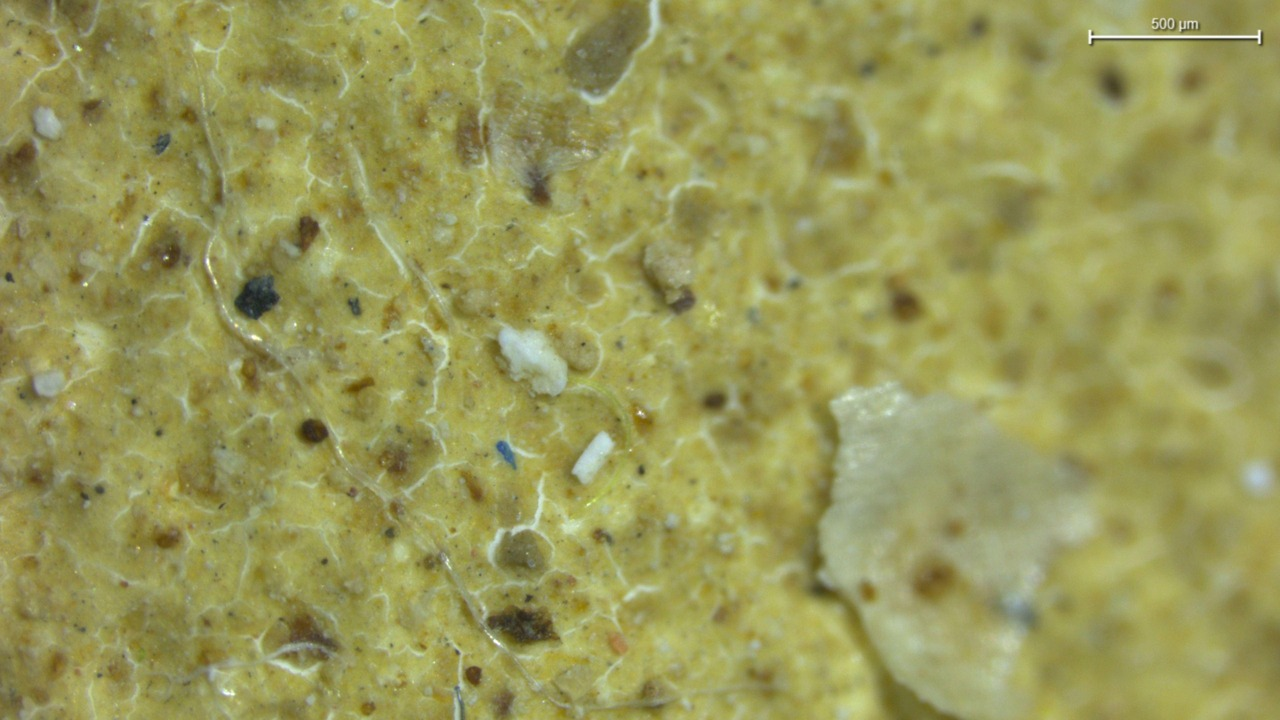microplastic_fragment: (497, 327, 567, 396), (643, 238, 695, 313), (32, 370, 65, 398)
